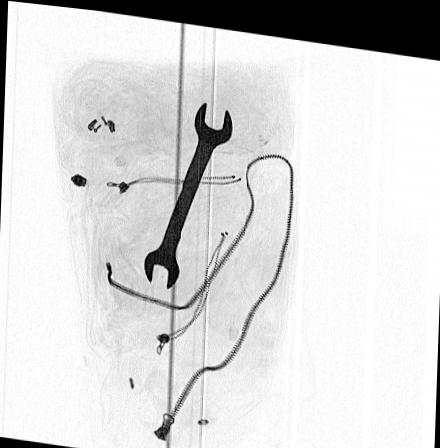Wrench: (143, 97, 232, 287)
